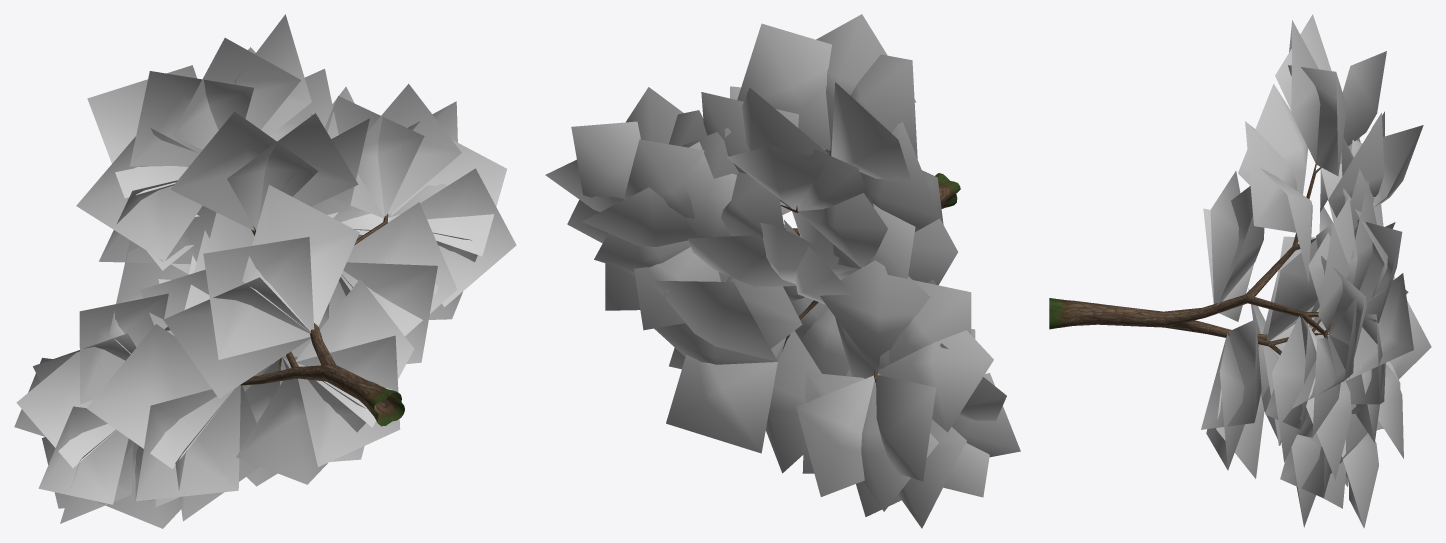
The model's file is Deciduous_tree3.fbx.
3 views of the same model, side by side, from view 1: azimuth 30°, elevation 25°; view 2: azimuth 150°, elevation 25°; view 3: azimuth 270°, elevation 25° (orthographic). The views are drawn at different scales.
Visible parts, largest first — view 1: Deciduous_tree3; view 2: Deciduous_tree3; view 3: Deciduous_tree3.
Part boxes in pixels (<box>): Deciduous_tree3: <box>14,14,516,528</box>; Deciduous_tree3: <box>545,14,1020,528</box>; Deciduous_tree3: <box>1049,14,1431,528</box>.
Bounding box in the file's own units: 12.82 × 12.61 × 9.04.
